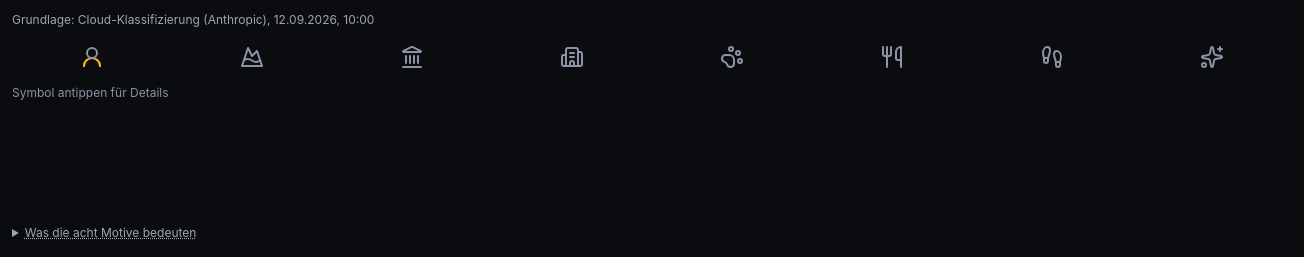
Test: MotifStrengthSection: die Detailzeile › opens the row with full name and exact value on click
The width and height of the screenshot is (1304, 257).
Click the button named "Menschen: 42%": coordinates (92, 57) [12,41,172,73]
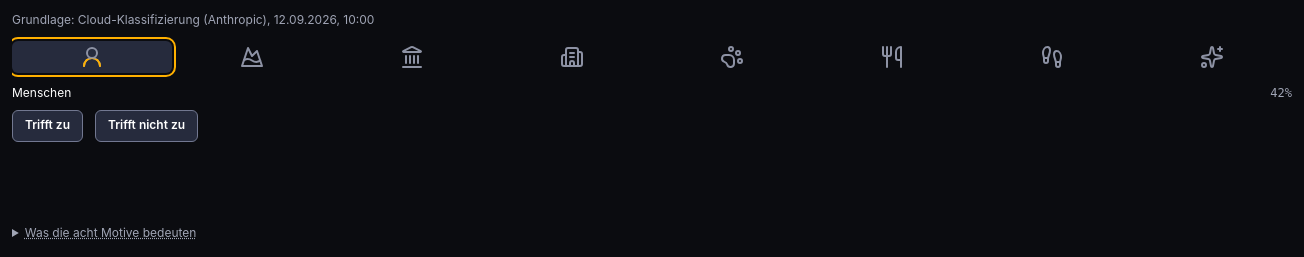
expect the text "Menschen" is shown: met, box [12,85,71,102]
expect the text "42%" is shown: met, box [1270,85,1292,102]
